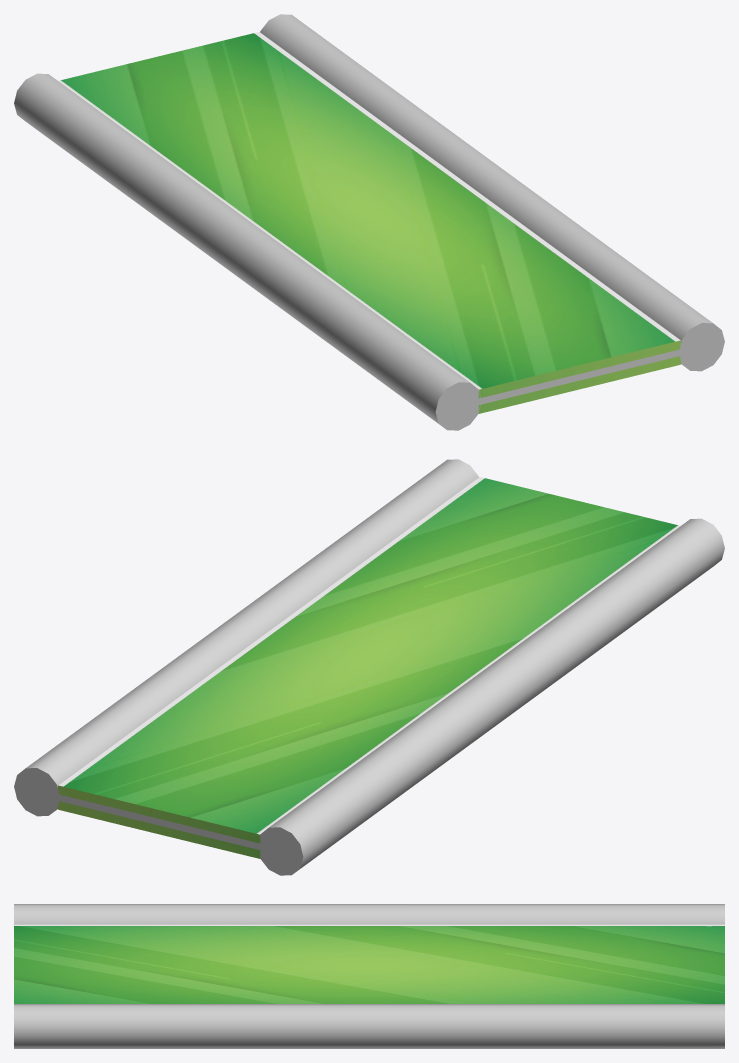
Rendered from PLF0110197.fbx.
The picture shows the model from 3 angles, top to bottom: view 1: azimuth 30°, elevation 25°; view 2: azimuth 150°, elevation 25°; view 3: azimuth 270°, elevation 25°; orthographic projection. The views are drawn at different scales.
Visible parts, largest first — view 1: smPLF0110197; view 2: smPLF0110197; view 3: smPLF0110197.
Part boxes in pixels (<box>): smPLF0110197: <box>14,14,724,430</box>; smPLF0110197: <box>14,459,724,875</box>; smPLF0110197: <box>14,904,724,1048</box>.
Bounding box in the file's own units: 183 × 29.18 × 461.
